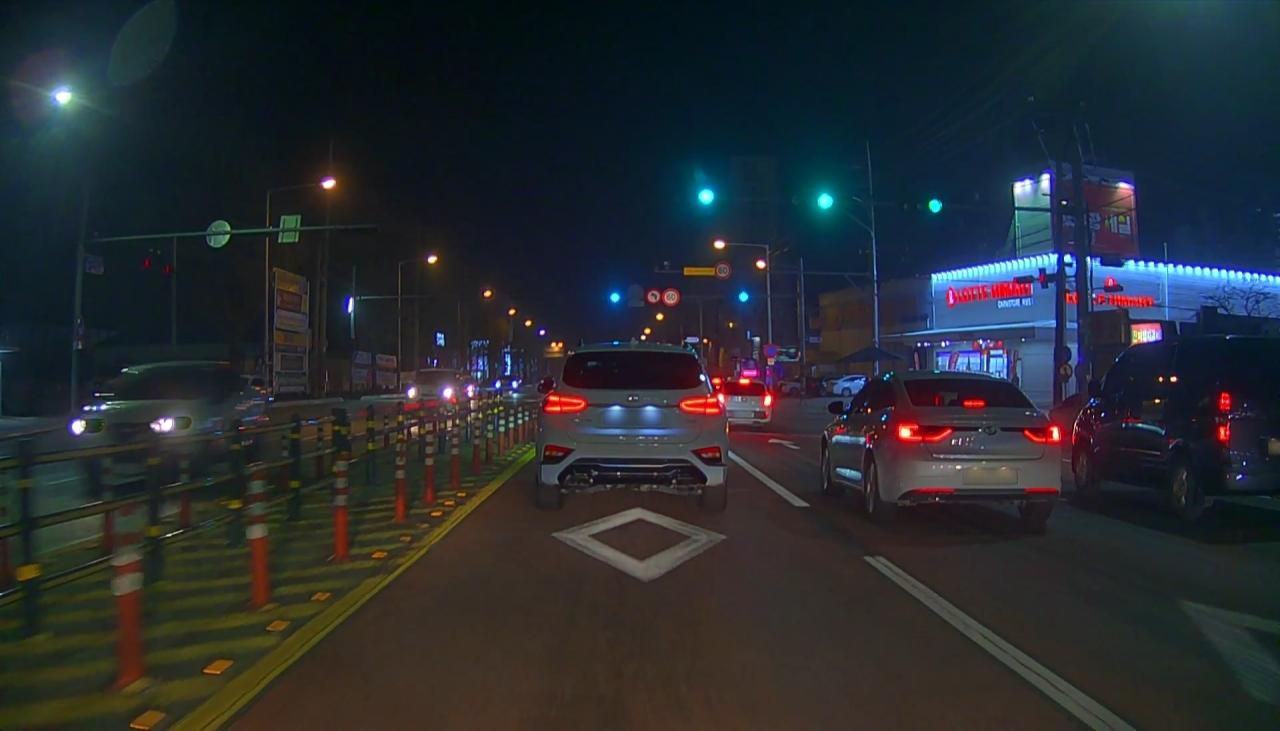Green Light: (817, 191, 839, 213), (696, 186, 716, 209), (926, 197, 944, 215), (738, 292, 750, 303), (610, 293, 620, 303)
